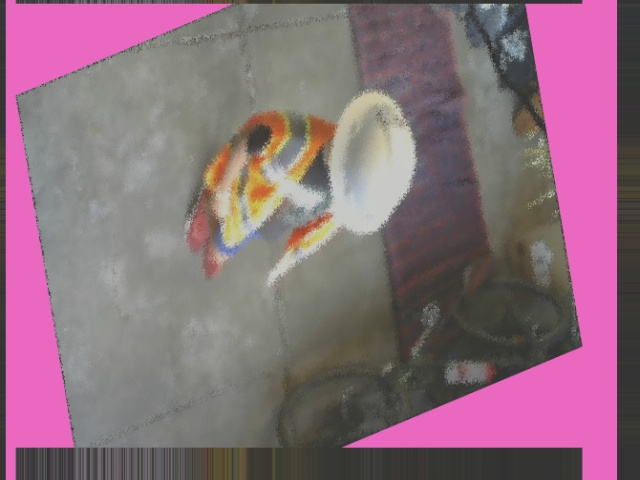three: (375, 92, 410, 137)
